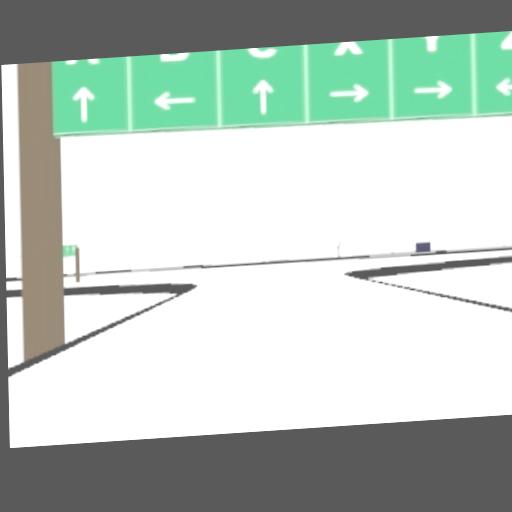A: (64, 58, 99, 64)
B: (159, 52, 188, 61)
C: (247, 45, 276, 58)
Left: (153, 89, 196, 110), (491, 76, 512, 95)
Right: (329, 81, 368, 103), (413, 79, 452, 100)
Straight: (70, 83, 94, 120), (252, 79, 273, 114)
X: (333, 39, 362, 54)
Y: (419, 34, 444, 50)
Z: (499, 30, 512, 49)
